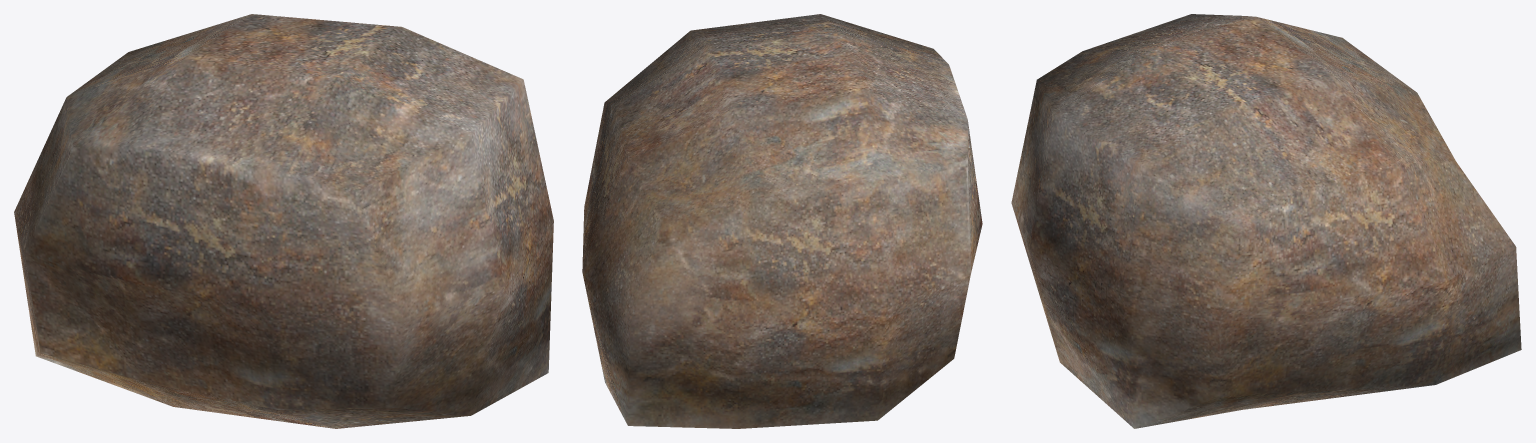
File: astroid1.glb
3 renders of one model, left to right at view 1: azimuth 30°, elevation 25°; view 2: azimuth 150°, elevation 25°; view 3: azimuth 270°, elevation 25°, orthographic. The views are drawn at different scales.
Parts seen in each view (by area): view 1: Rock - River Stone Low-poly.002; view 2: Rock - River Stone Low-poly.002; view 3: Rock - River Stone Low-poly.002.
Part boxes in pixels (box(x1,y1,x2,y2)): Rock - River Stone Low-poly.002: box(14, 14, 553, 428); Rock - River Stone Low-poly.002: box(582, 14, 982, 428); Rock - River Stone Low-poly.002: box(1011, 14, 1521, 428).
Size of the model in its own units: 0.2205 by 0.1629 by 0.2382.
1 material, 1 textured.
